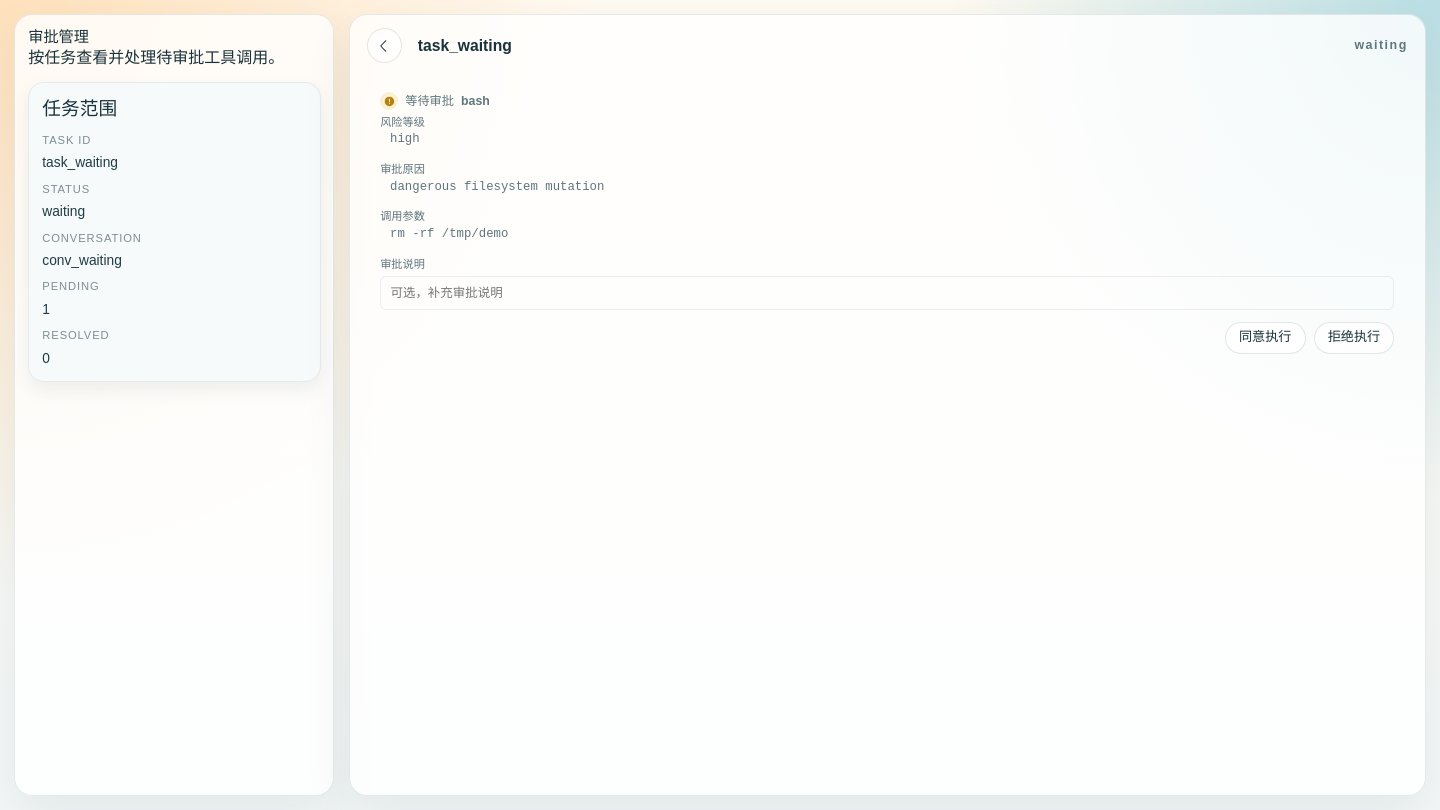
it: ApprovalView › submits a reject decision for the selected task
The image size is (1440, 810).
Type "too risky" into the field with class "approval-reason-input" at coordinates (887, 293), box left=380, top=276, right=1394, bottom=310
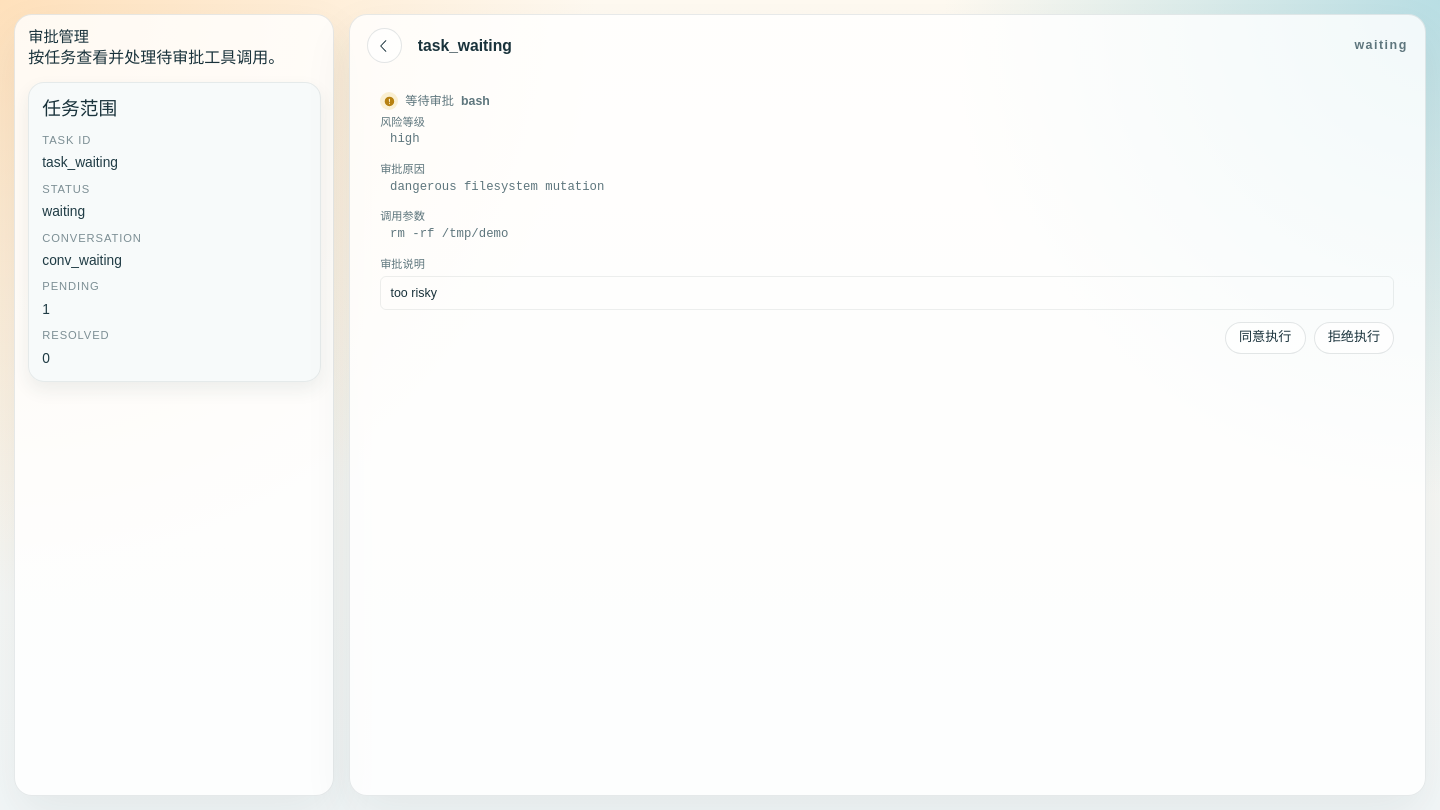
Click the button "拒绝执行" at coordinates (1354, 338), box left=1314, top=322, right=1394, bottom=354
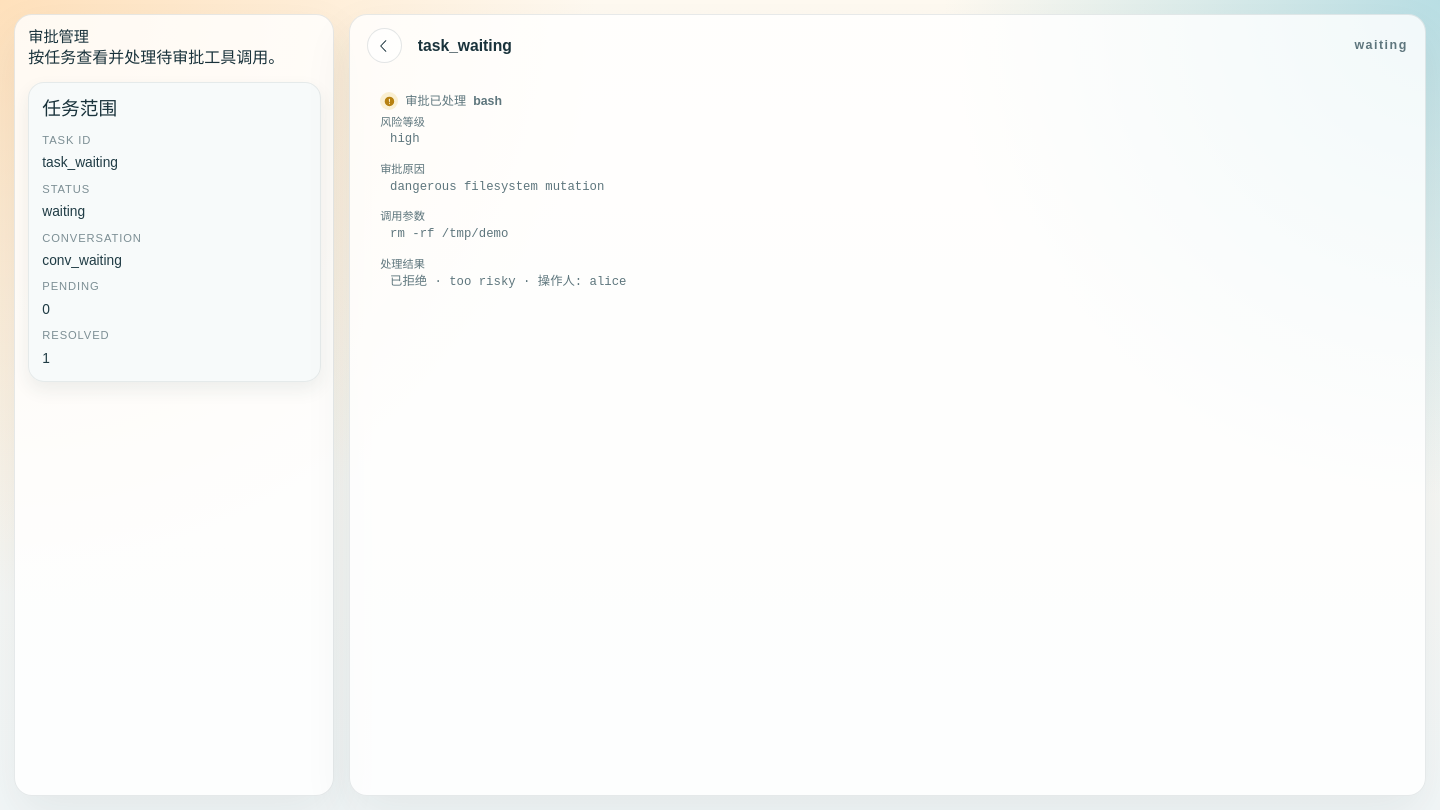
Expected: the text "已拒绝" is shown, left=390, top=274, right=626, bottom=288
Expected: the text "too risky" is shown, left=390, top=274, right=626, bottom=288
